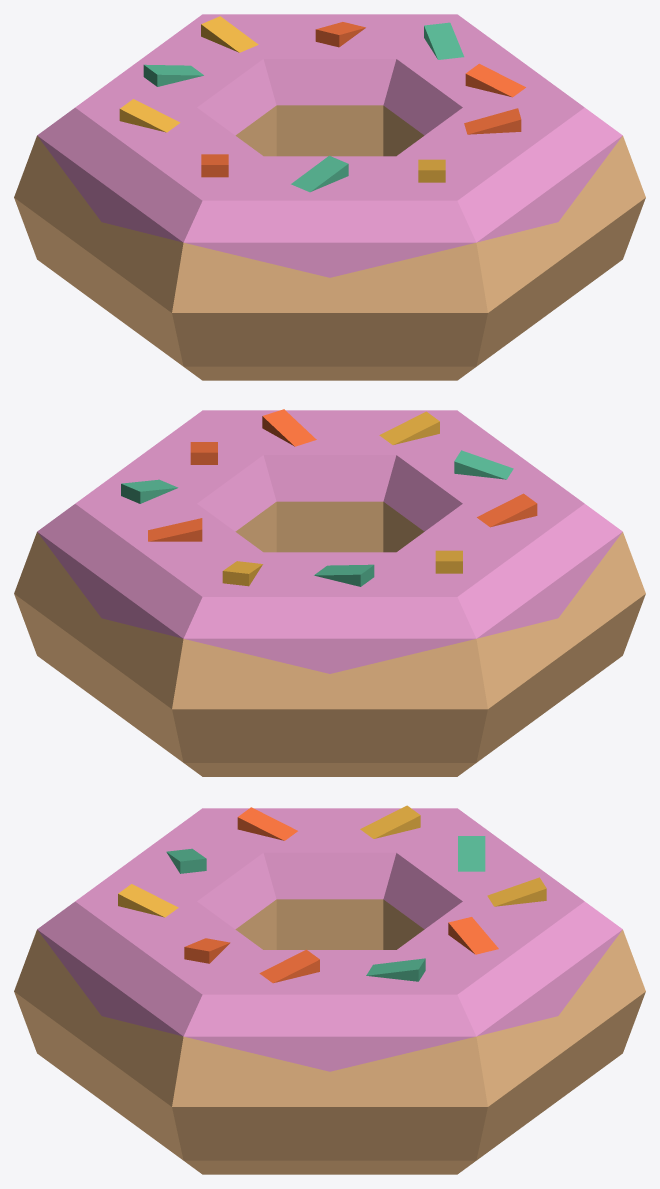
Rendered from donutSprinkles.dae.
The picture shows the model from 3 angles, top to bottom: view 1: azimuth 30°, elevation 25°; view 2: azimuth 150°, elevation 25°; view 3: azimuth 270°, elevation 25°; orthographic projection.
Visible parts, largest first — view 1: donutSprinkles; view 2: donutSprinkles; view 3: donutSprinkles.
Part boxes in pixels (x1,y1,x2,y2): donutSprinkles: (14,14,645,380); donutSprinkles: (14,409,645,776); donutSprinkles: (14,805,645,1174).
Bounding box in the file's own units: 0.2451 × 0.095 × 0.283.
